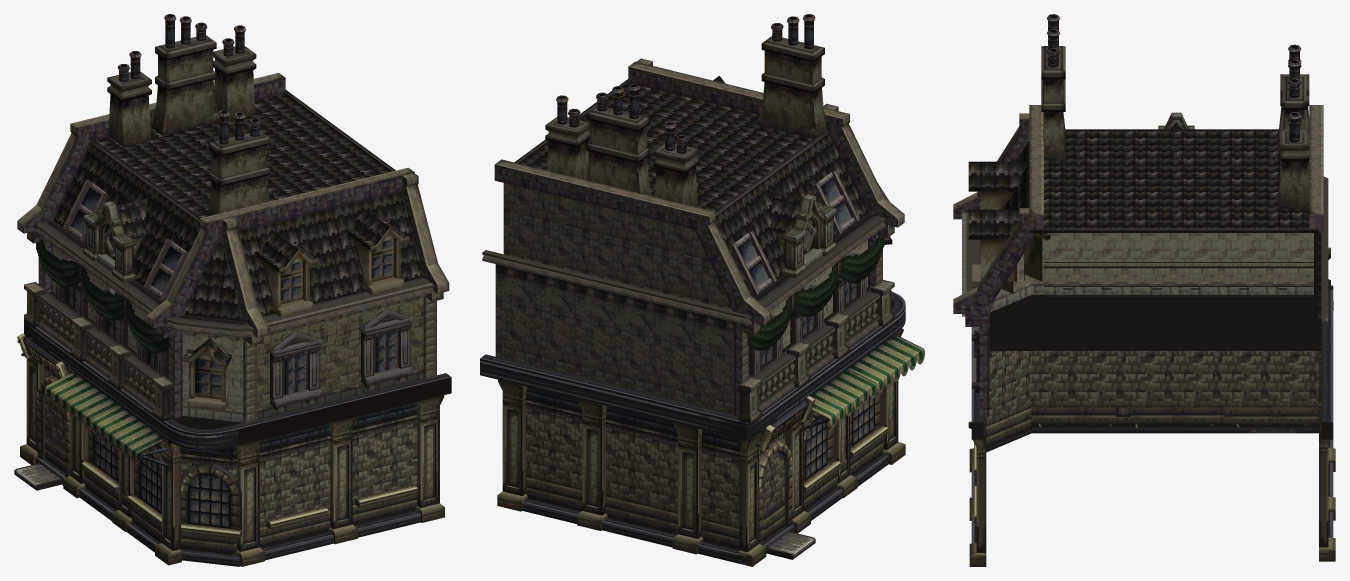
The model's file is EnvBdgMD_City_B_Outdoor_Pub_A.FBX.
3 views of the same model, side by side, from view 1: azimuth 30°, elevation 25°; view 2: azimuth 150°, elevation 25°; view 3: azimuth 270°, elevation 25° (orthographic). The views are drawn at different scales.
Visible parts, largest first — view 1: EnvBdgMD_City_B_Outdoor_Pub_A; view 2: EnvBdgMD_City_B_Outdoor_Pub_A; view 3: EnvBdgMD_City_B_Outdoor_Pub_A.
Part boxes in pixels (<box>): EnvBdgMD_City_B_Outdoor_Pub_A: <box>14,14,451,566</box>; EnvBdgMD_City_B_Outdoor_Pub_A: <box>480,14,924,566</box>; EnvBdgMD_City_B_Outdoor_Pub_A: <box>953,14,1335,566</box>.
Size of the model in its own units: 748 by 1040 by 793.
Materials: 1 (1 with a texture image).
